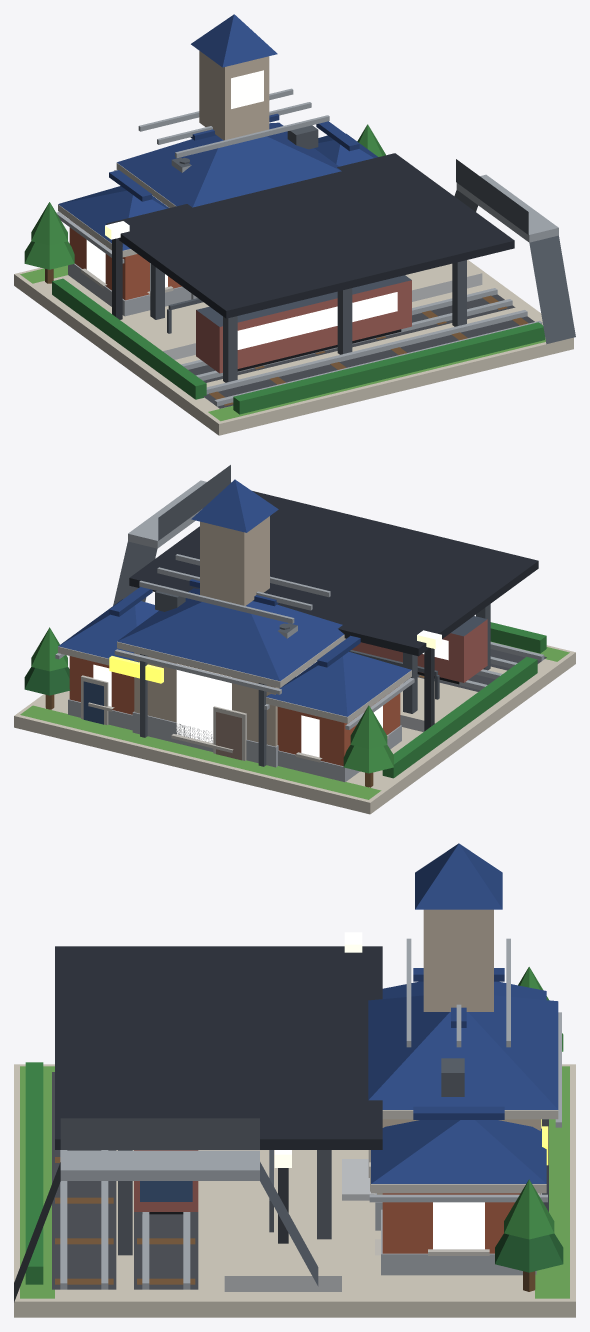
3 views of the same model, one above another, from view 1: azimuth 30°, elevation 25°; view 2: azimuth 150°, elevation 25°; view 3: azimuth 270°, elevation 25° (orthographic). The views are drawn at different scales.
Visible parts, largest first — view 1: b32; view 2: b32; view 3: b32.
Part boxes in pixels (box(x1,y1,x2,y2)): b32: box(14, 14, 575, 435); b32: box(14, 465, 575, 814); b32: box(14, 843, 575, 1317).
Size of the model in its own units: 0.995 by 0.67 by 0.96.
